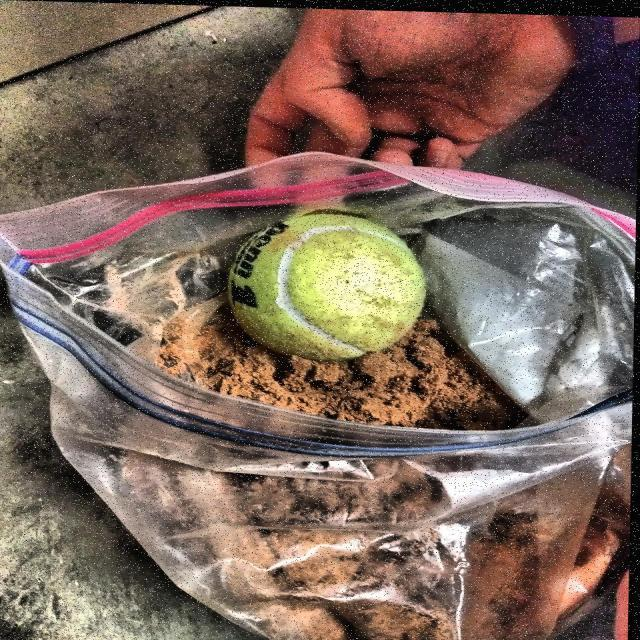tennis-ball: (236, 206, 443, 365)
